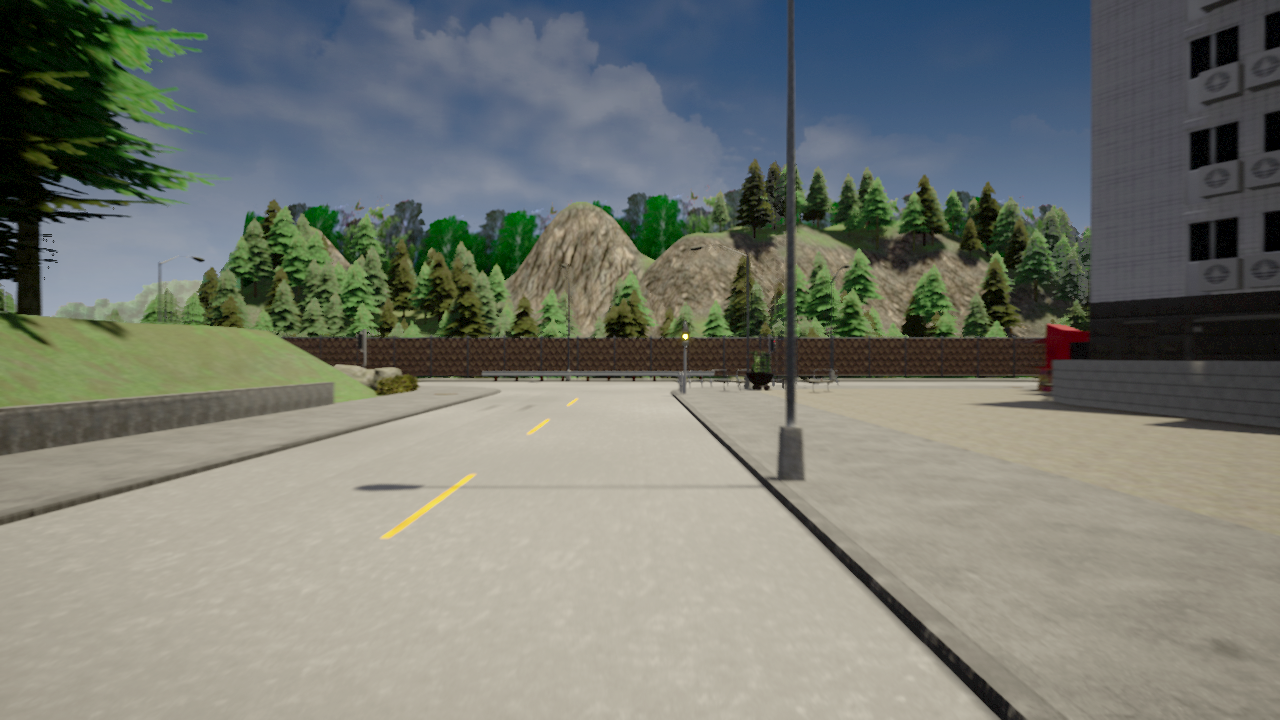yellow: (682, 330, 689, 345)
